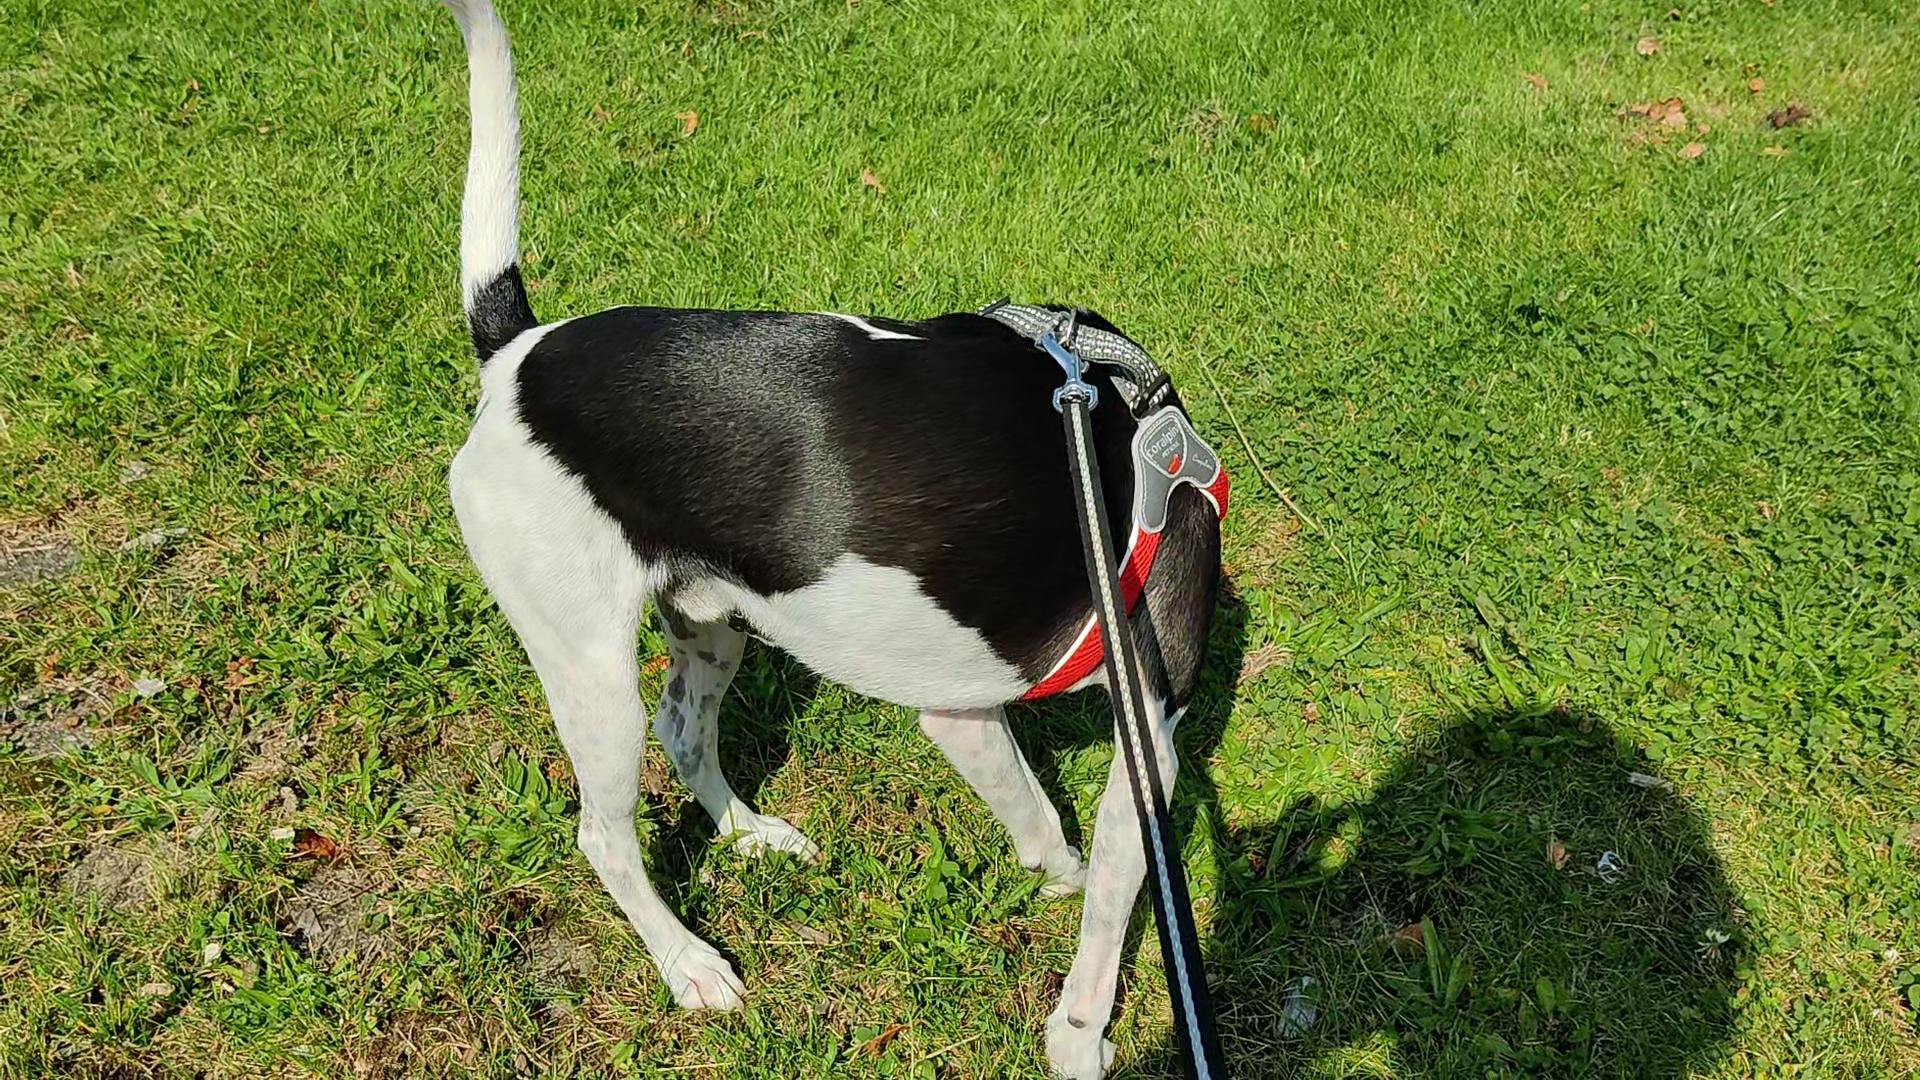Dog: (427, 0, 1232, 1079)
